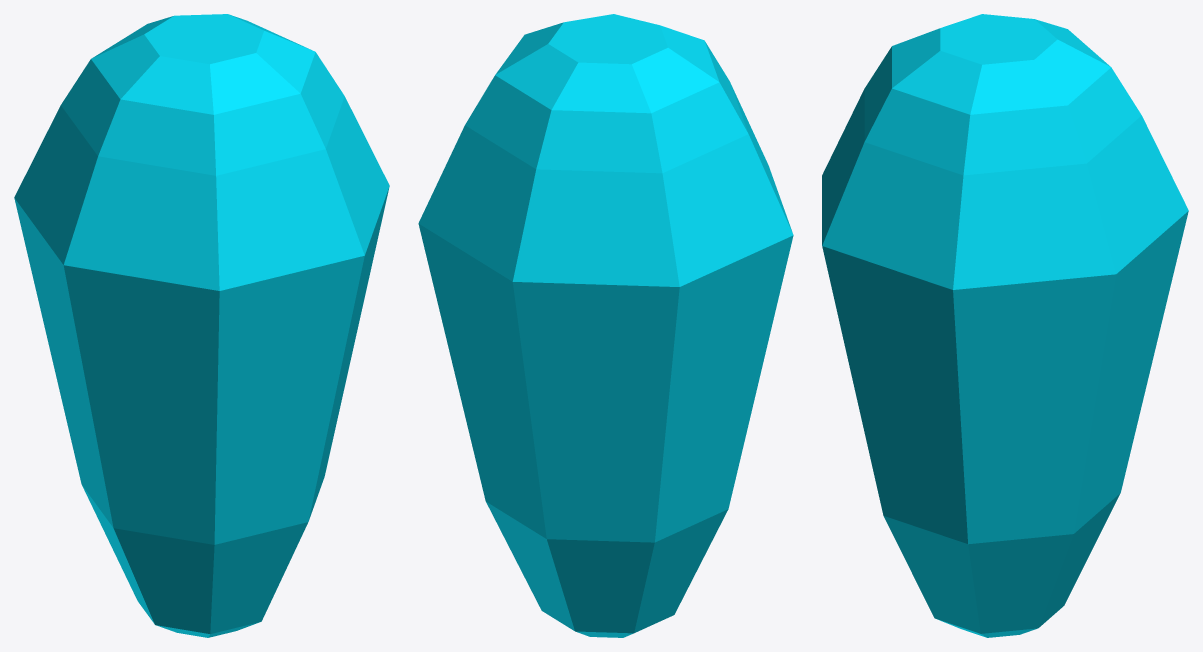
Rendered from nitrogen things.fbx.
The picture shows the model from 3 angles, left to right: view 1: azimuth 30°, elevation 25°; view 2: azimuth 150°, elevation 25°; view 3: azimuth 270°, elevation 25°; orthographic projection.
Parts seen in each view (by area): view 1: Circle; view 2: Circle; view 3: Circle.
Boxes of the visible parts, bbox=[...] form: Circle: bbox=[14, 14, 389, 637]; Circle: bbox=[418, 14, 793, 637]; Circle: bbox=[822, 14, 1188, 637].
Size of the model in its own units: 329 by 562 by 320.
